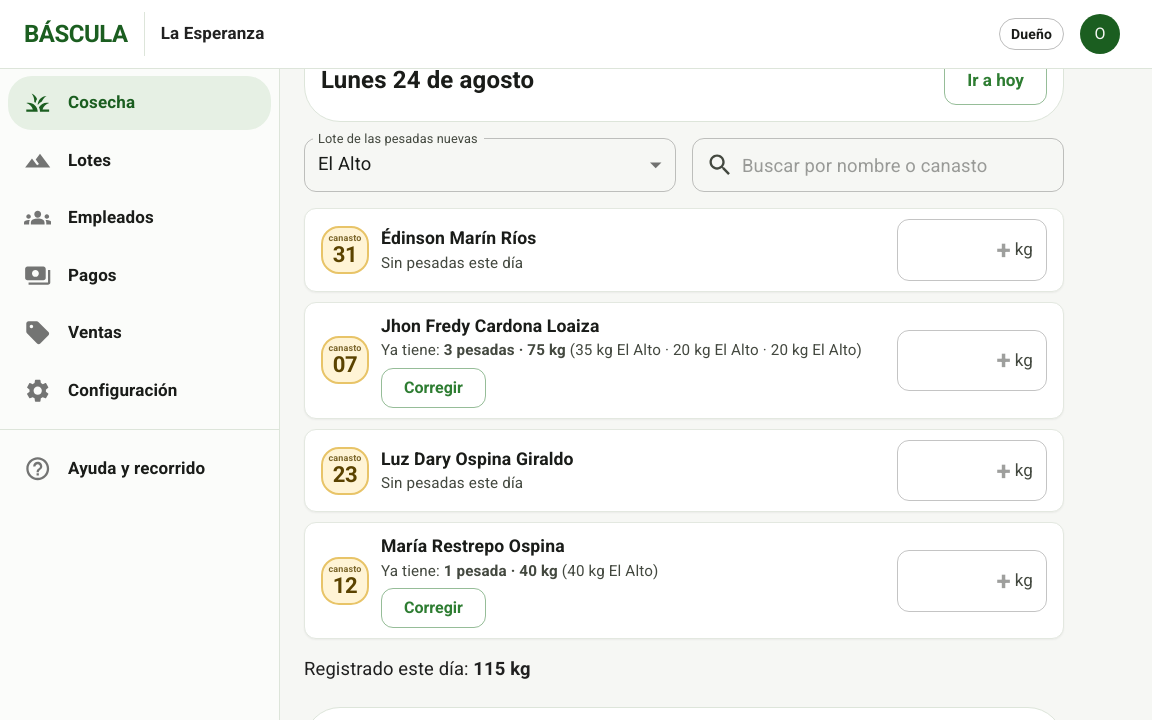
Test: Registro de recolección masivo › refuses a box that is not a number, and writes nothing
The width and height of the screenshot is (1152, 720).
(page scrolled)
Type "abc" into the field named "Jhon Fredy Cardona Loaiza, kilos" at (954, 360), box [897, 330, 1011, 391]
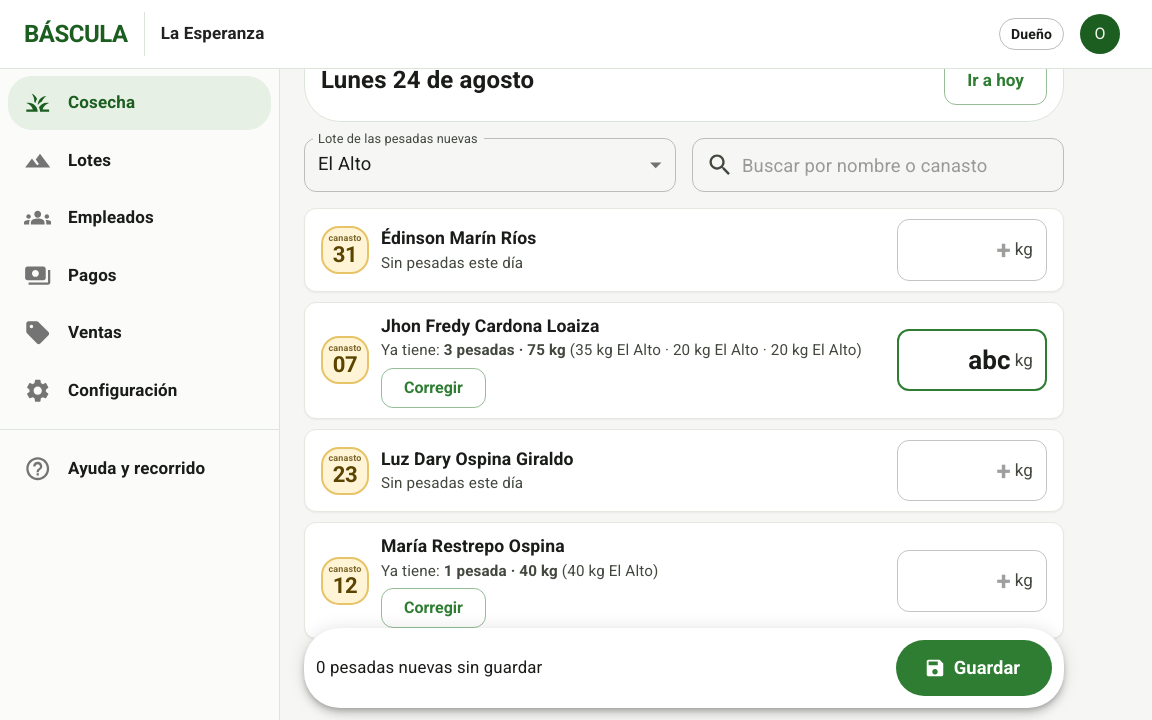
Click the button "Guardar" at (974, 668), box [896, 640, 1052, 696]
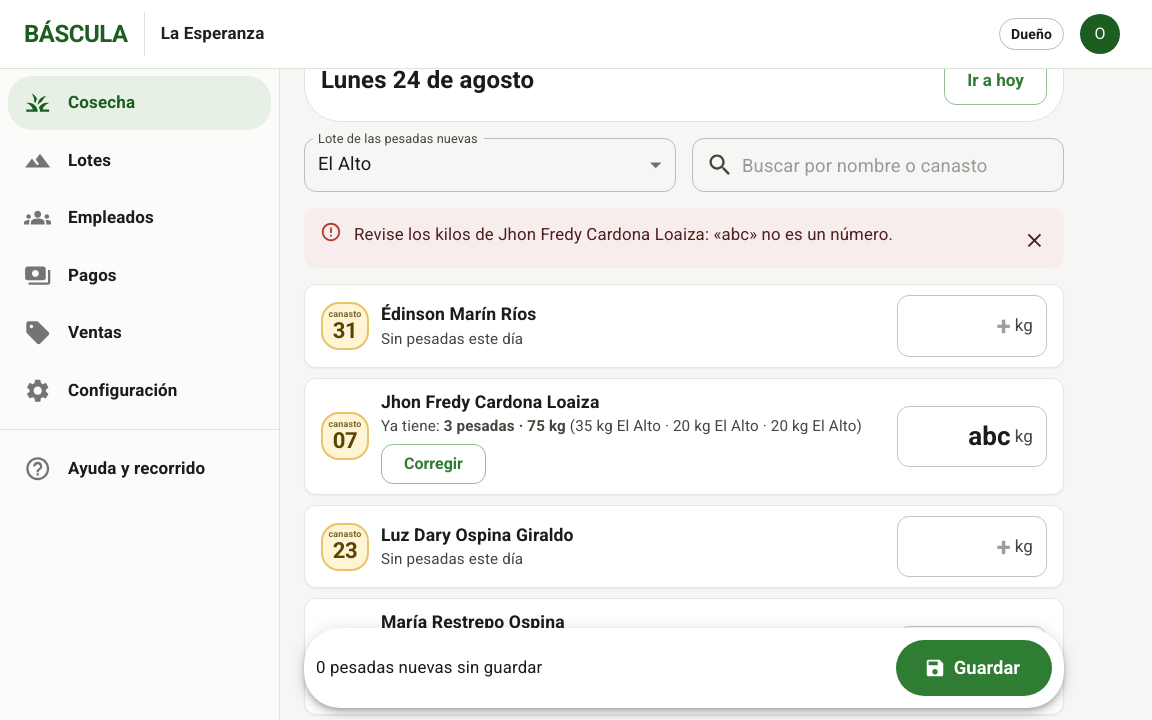
Now the text "Revise los kilos de Jhon Fredy Cardona Loaiza" is shown, box [354, 224, 893, 244]
